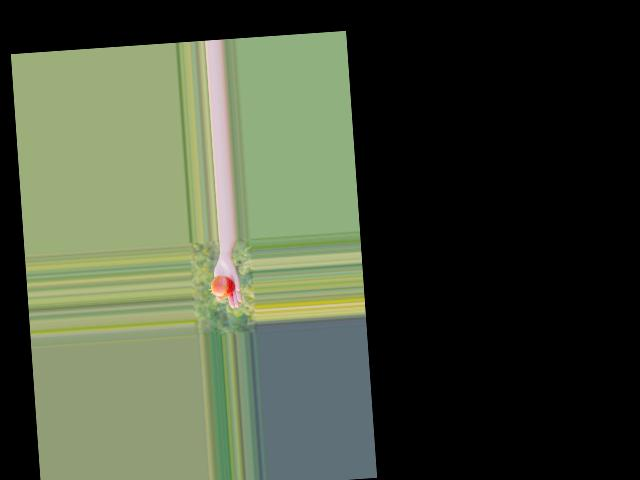tomato: (210, 275, 235, 297)
